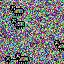sheep: (10, 5, 24, 16), (11, 18, 25, 29), (15, 53, 29, 64), (5, 56, 19, 64), (55, 40, 64, 51)
